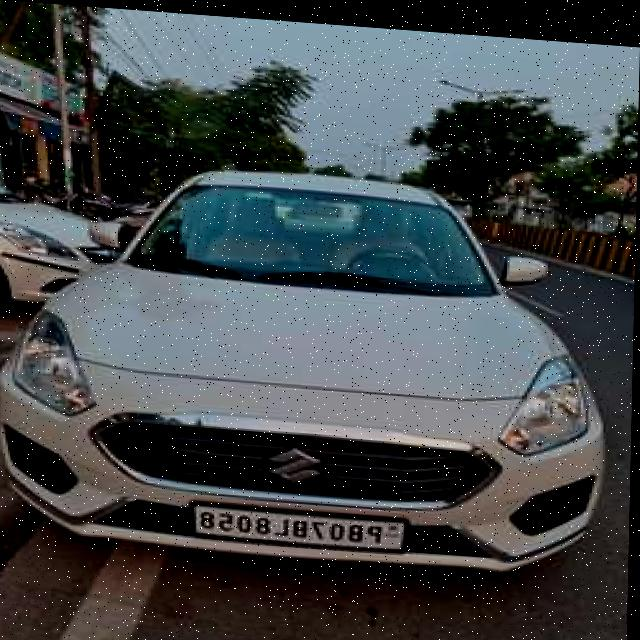plate: (190, 495, 416, 550)
